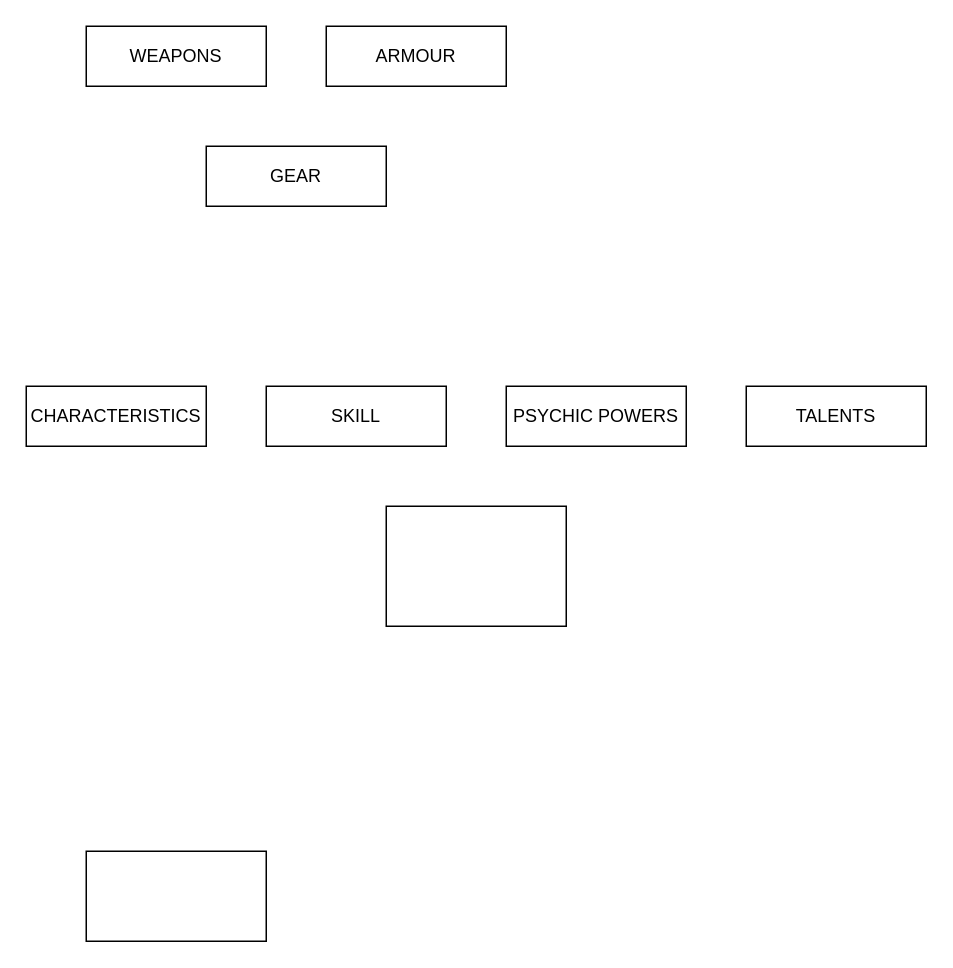
This 953x968 diagram has some shape labels left out. The box of each missing label's shape, as (x1, y1, x2, y2) in pixels:
APTITUDES: (85, 850, 266, 941)
PERSONAGGIO: (385, 505, 566, 626)
